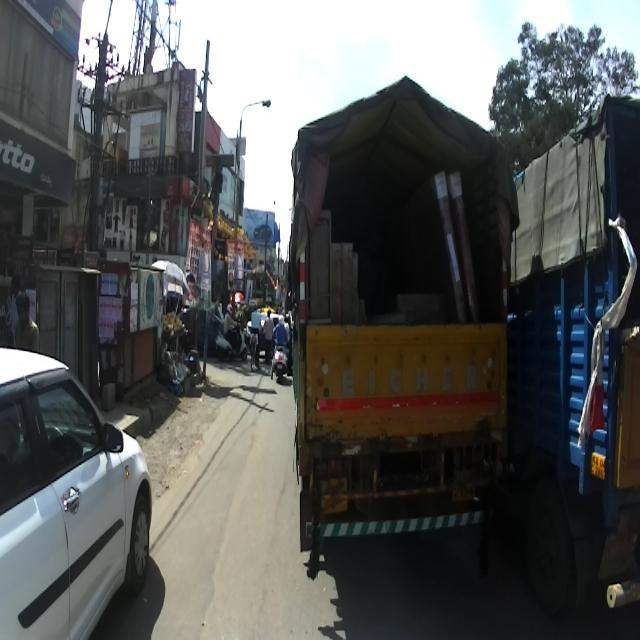autorickshaw: (258, 307, 276, 312)
car: (0, 344, 152, 637), (244, 311, 282, 346)
scooter: (216, 322, 247, 363), (270, 343, 286, 381)
truck: (279, 76, 516, 584), (460, 93, 640, 618)
